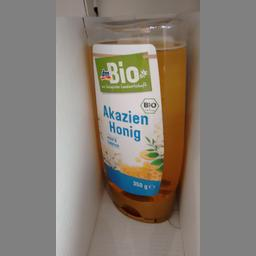honey: (84, 17, 190, 230)
